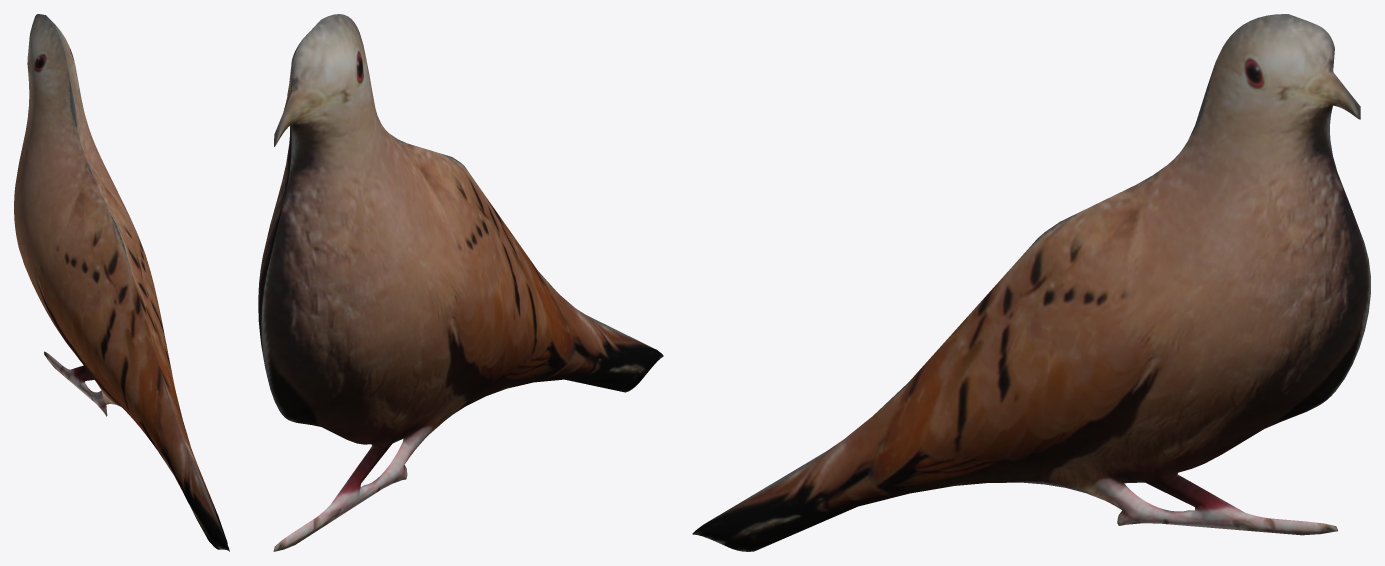
File: 48524962366_79259db78e_b-removebg-preview.gltf
3 renders of one model, left to right at view 1: azimuth 30°, elevation 25°; view 2: azimuth 150°, elevation 25°; view 3: azimuth 270°, elevation 25°, orthographic. The views are drawn at different scales.
Visible parts, largest first — view 1: node1; view 2: node1; view 3: node1.
Part boxes in pixels (x1,y1,x2,y2): node1: (14,14,229,551); node1: (258,14,663,551); node1: (692,14,1370,551).
Size of the model in its own units: 0.2804 by 1.07 by 1.2.
Materials: 1 (1 with a texture image).
